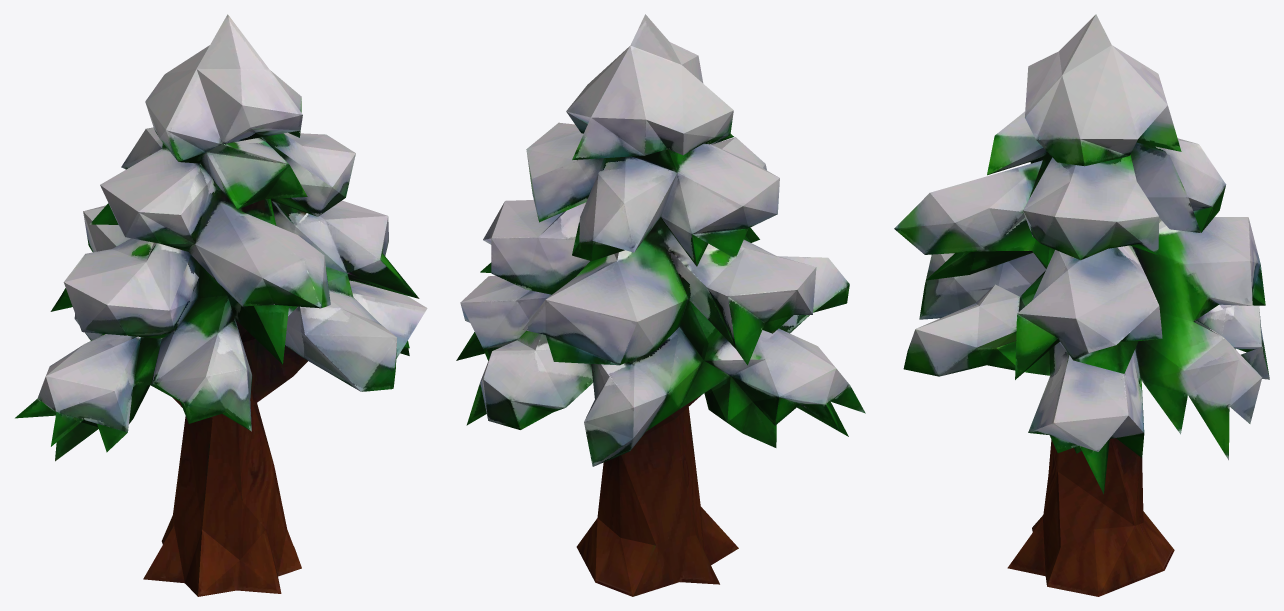
File: snow_pine_tree.glb
The picture shows the model from 3 angles, left to right: view 1: azimuth 30°, elevation 25°; view 2: azimuth 150°, elevation 25°; view 3: azimuth 270°, elevation 25°; orthographic projection.
Size of the model in its own units: 1.48 by 1.99 by 1.24.
Materials: 1 (1 with a texture image).
